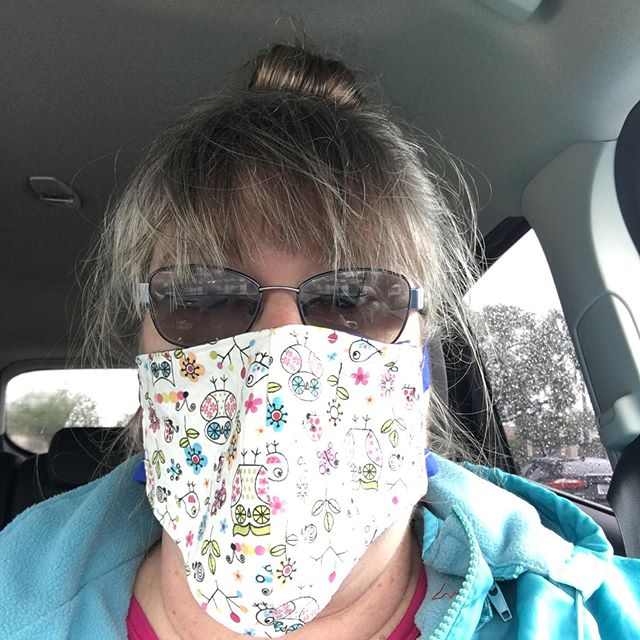homemade: (115, 326, 490, 640)
